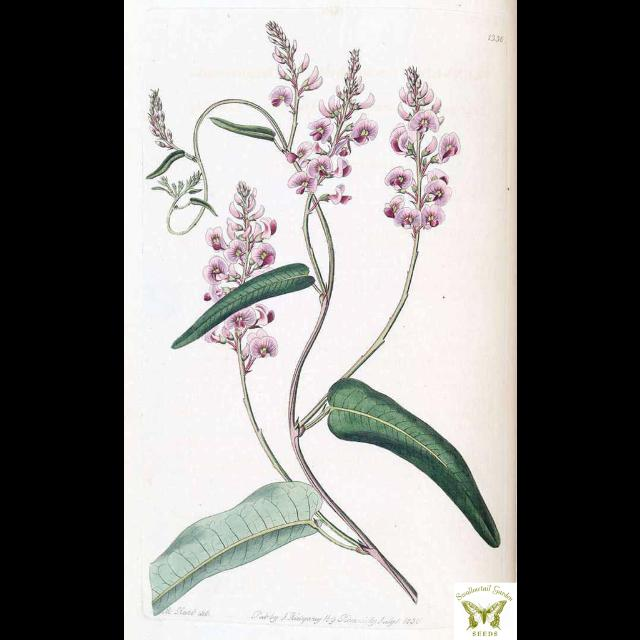Flower: (383, 66, 459, 238), (199, 194, 273, 362), (289, 90, 377, 210), (270, 52, 322, 110)
